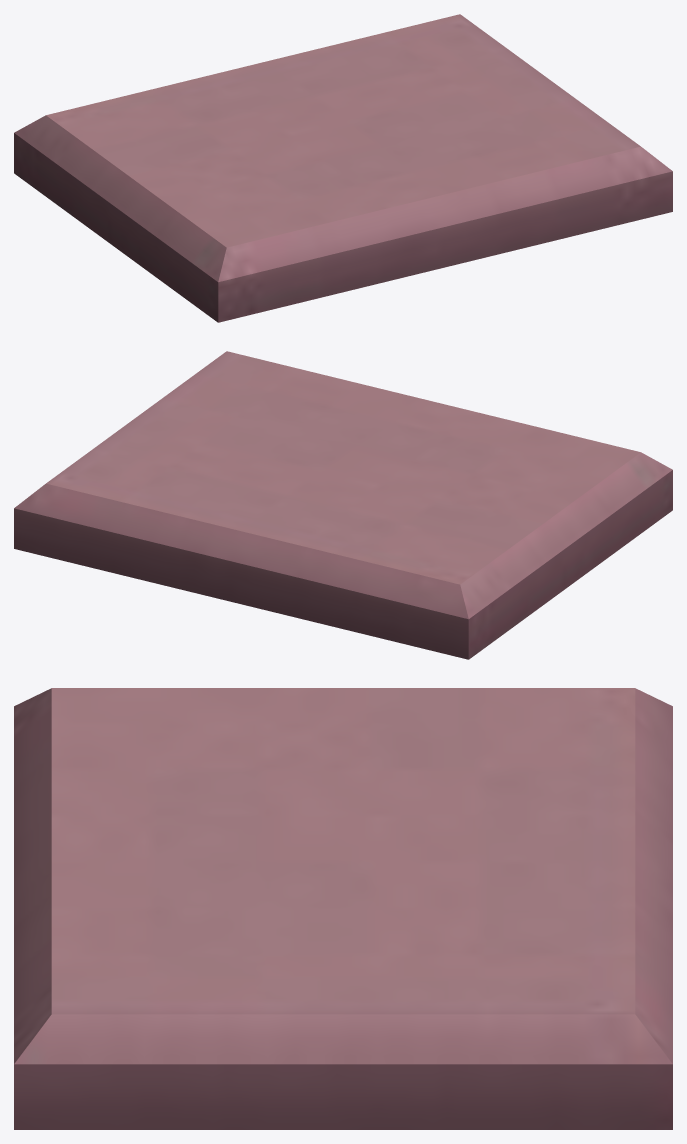
Rendered from holmium-plate.glb.
The picture shows the model from 3 angles, top to bottom: view 1: azimuth 30°, elevation 25°; view 2: azimuth 150°, elevation 25°; view 3: azimuth 270°, elevation 25°; orthographic projection. The views are drawn at different scales.
Parts seen in each view (by area): view 1: holmium-plate; view 2: holmium-plate; view 3: holmium-plate.
Part boxes in pixels (x1=…): holmium-plate: x1=14, y1=14, x2=672, y2=322; holmium-plate: x1=14, y1=351, x2=672, y2=659; holmium-plate: x1=14, y1=688, x2=672, y2=1129.
Bounding box in the file's own units: 0.27 × 0.035 × 0.21.
Materials: 1 (1 with a texture image).
